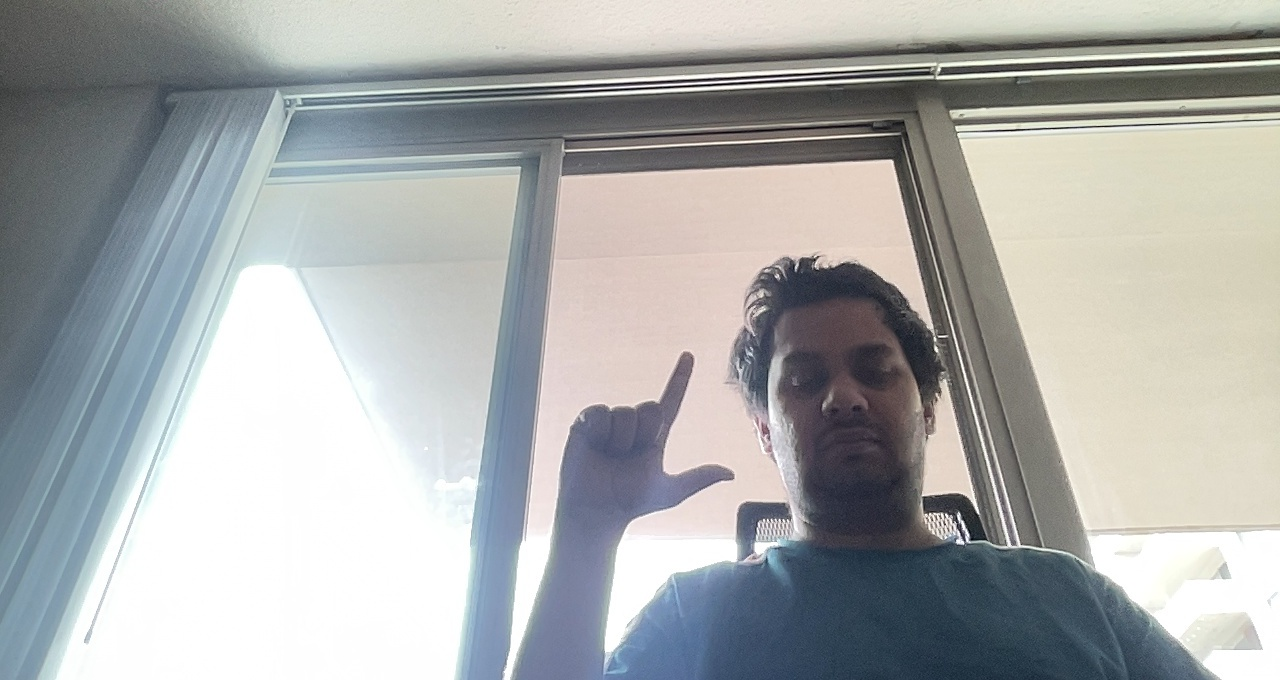L: (559, 345, 742, 534)
